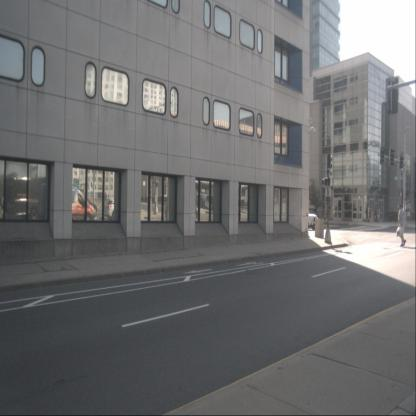human-pedestrian-adult: (396, 203, 407, 247), (364, 204, 370, 223), (374, 205, 378, 223), (390, 208, 393, 223), (369, 207, 371, 221)
vehicle-car: (72, 187, 96, 224), (297, 207, 319, 230), (76, 198, 97, 214), (104, 197, 114, 222)
vehicle-truck: (3, 176, 46, 220)
